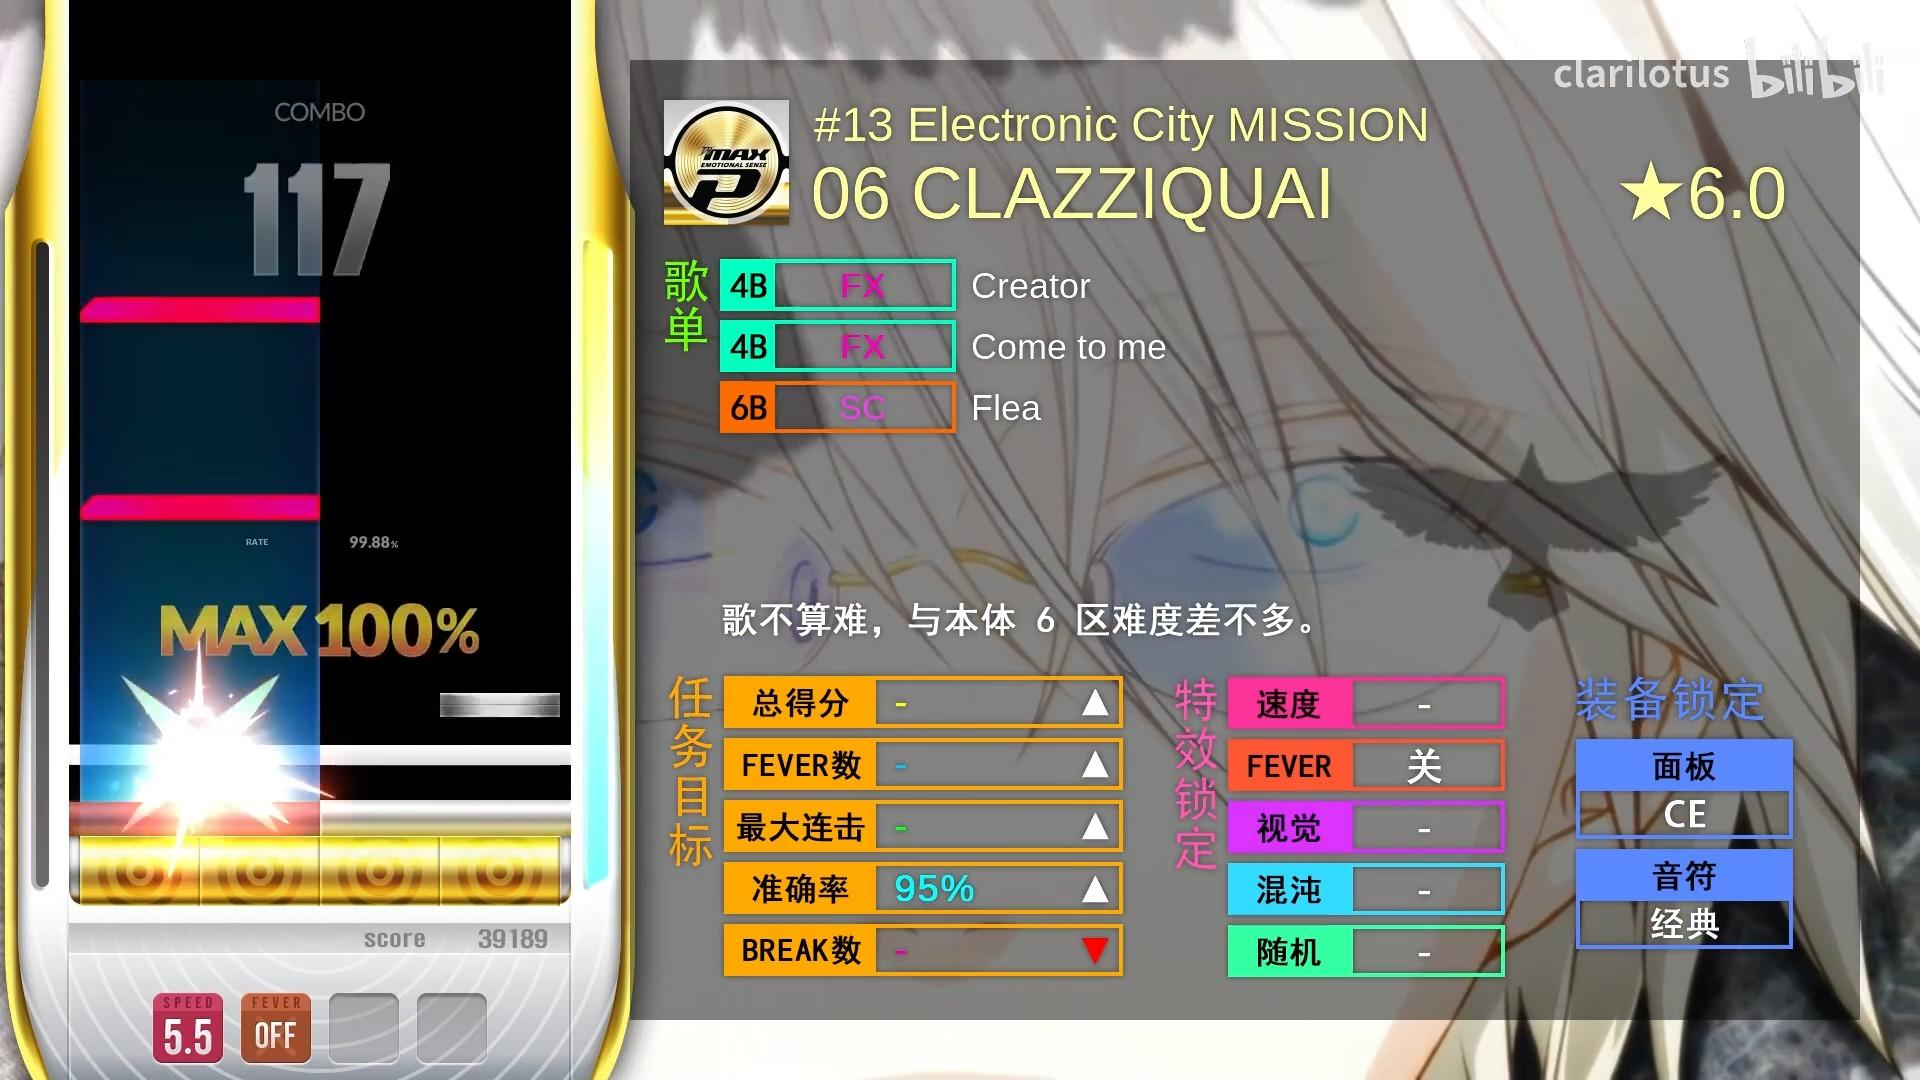note: (439, 692, 560, 717)
xnote: (80, 297, 319, 323), (82, 495, 319, 520)
